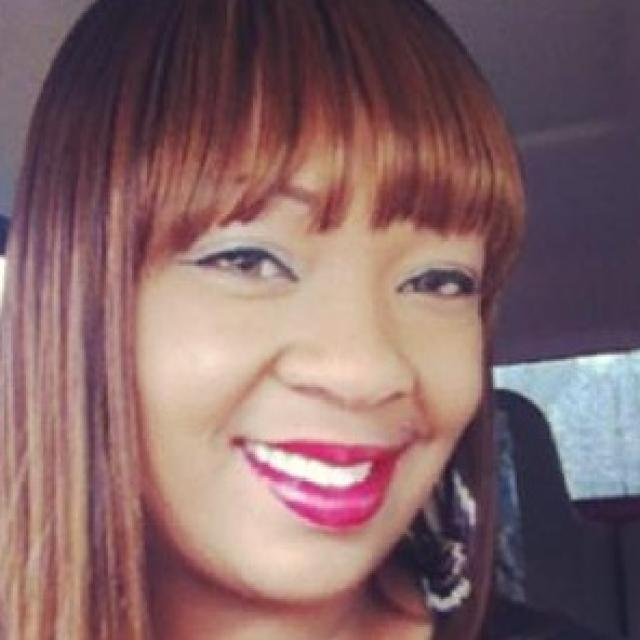Normal: (128, 111, 491, 604)
